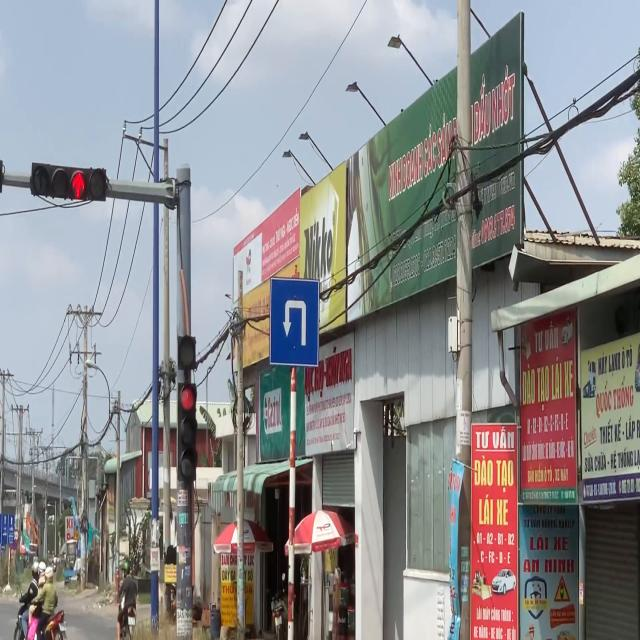Chi dan: (270, 274, 320, 368)
